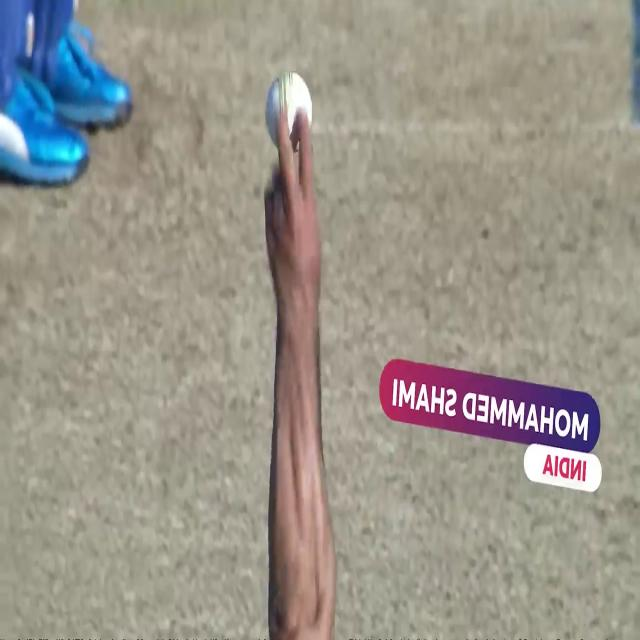ball: (264, 67, 312, 150)
